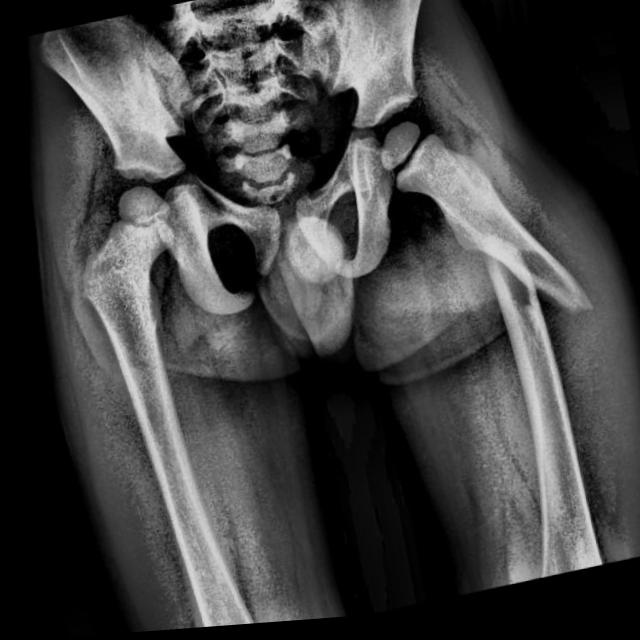fracture: (474, 229, 595, 343)
